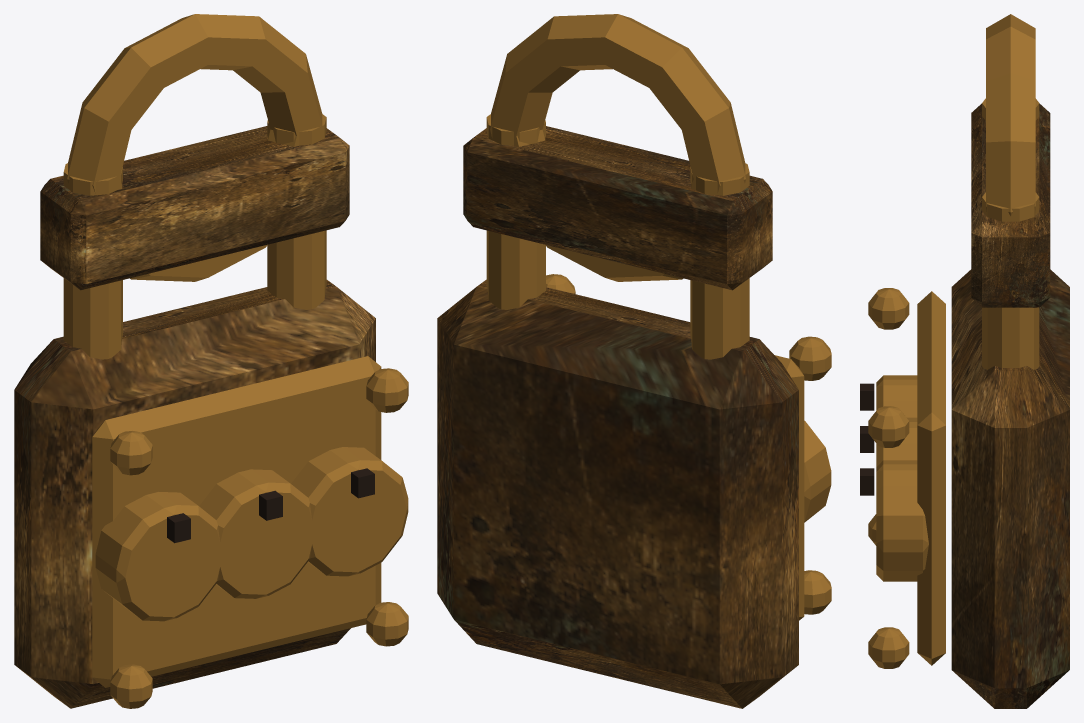
File: bedside_combination_lock.glb
3 renders of one model, left to right at view 1: azimuth 30°, elevation 25°; view 2: azimuth 150°, elevation 25°; view 3: azimuth 270°, elevation 25°, orthographic. The views are drawn at different scales.
Visible parts, largest first — view 1: LockBody, LockFacePlate, LockShackleMask, LockShackleTop, LockDial, LockDial.002, LockDial.001, LockShackleL, LockShackleR, LockRivet.003, LockRivet.001, LockRivet.002 (+4 smaller); view 2: LockBody, LockShackleMask, LockShackleTop, LockShackleL, LockShackleR, LockDial, LockFacePlate, LockRivet, LockRivet.002; view 3: LockBody, LockShackleMask, LockFacePlate, LockShackleTop, LockDial.002, LockShackleR, LockDial, LockRivet.003, LockRivet.001, LockRivet, LockDial.001, LockDialIndicator.002 (+1 smaller).
Boxes of the visible parts, box(x1,y1,x2,y2) form: LockBody: box(14, 280, 375, 708); LockFacePlate: box(92, 356, 381, 687); LockShackleMask: box(40, 126, 349, 290); LockShackleTop: box(67, 14, 322, 281); LockDial: box(95, 492, 220, 621); LockDial.002: box(291, 447, 408, 576); LockDial.001: box(199, 469, 312, 598); LockShackleL: box(63, 163, 122, 359); LockShackleR: box(267, 114, 326, 309); LockRivet.003: box(366, 602, 408, 646); LockRivet.001: box(366, 368, 408, 412); LockRivet.002: box(110, 664, 152, 708); LockBody: box(437, 279, 798, 708); LockShackleMask: box(463, 126, 772, 290); LockShackleTop: box(490, 14, 746, 281); LockShackleL: box(690, 163, 749, 359); LockShackleR: box(486, 114, 545, 309); LockDial: box(804, 420, 831, 522); LockFacePlate: box(774, 355, 804, 620); LockRivet: box(789, 336, 831, 380); LockRivet.002: box(804, 570, 831, 614); LockBody: box(951, 269, 1069, 708); LockShackleMask: box(971, 103, 1050, 307); LockFacePlate: box(917, 291, 945, 665); LockShackleTop: box(986, 14, 1035, 216); LockDial.002: box(876, 460, 928, 581); LockShackleR: box(982, 192, 1039, 369); LockDial: box(876, 375, 917, 417); LockRivet.003: box(868, 627, 909, 668); LockRivet.001: box(868, 406, 909, 447); LockRivet: box(868, 288, 909, 329); LockDial.001: box(876, 417, 917, 466); LockDialIndicator.002: box(860, 468, 874, 495).
Bounding box in the file's own units: 0.105 × 0.191 × 0.0585.
3 materials, 1 textured.
